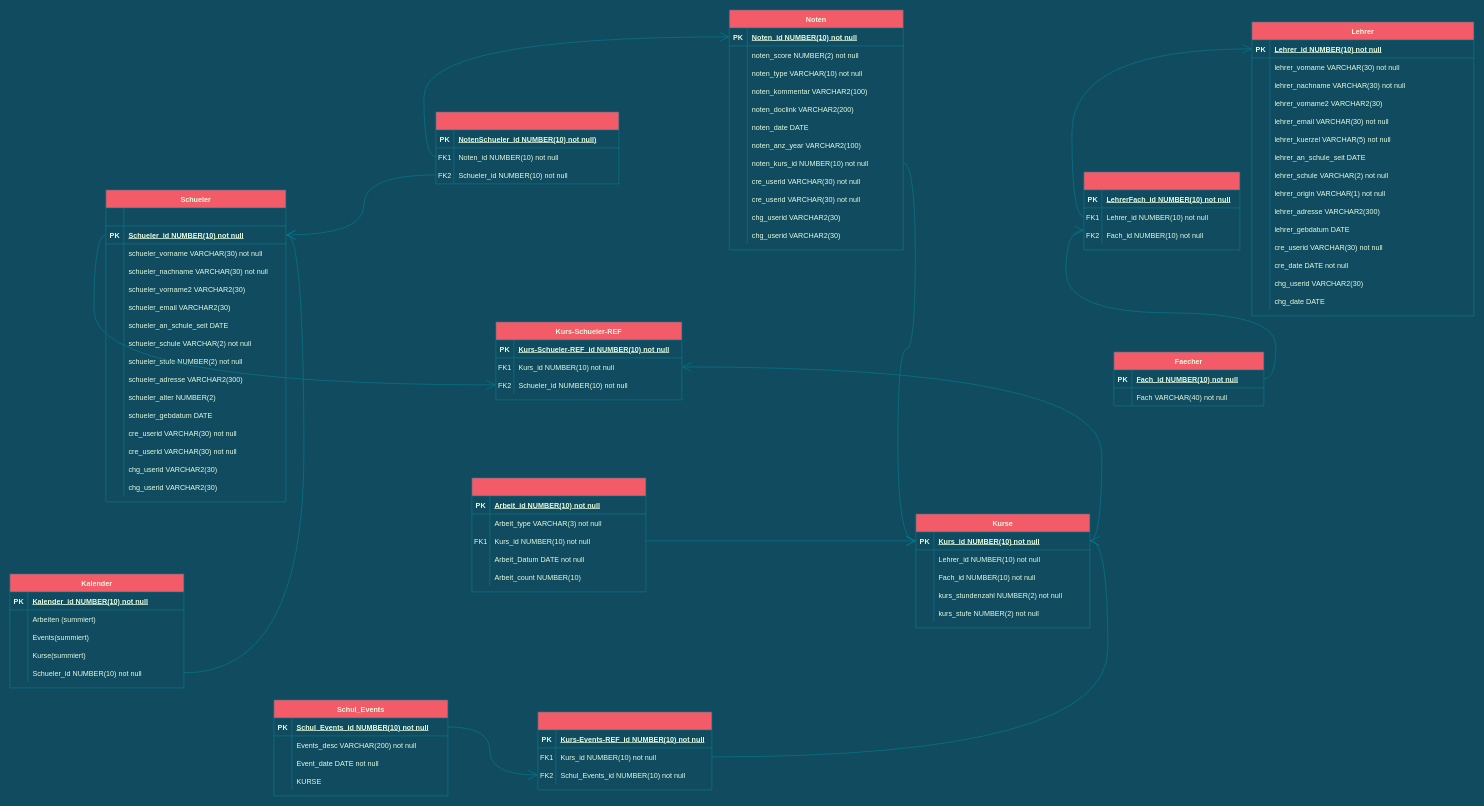
Some shapes in this 1484 by 806 pixel diagram are drawn without their labels. The box of each missing label's shape, as (x1, y1, x2, y2) in pixels:
Arbeiten: (471, 477, 646, 592)
Kurse-Events-REF: (537, 711, 712, 790)
Lehrer-Fach-REF: (1083, 171, 1240, 250)
Noten-Schueler-REF: (435, 111, 619, 184)
